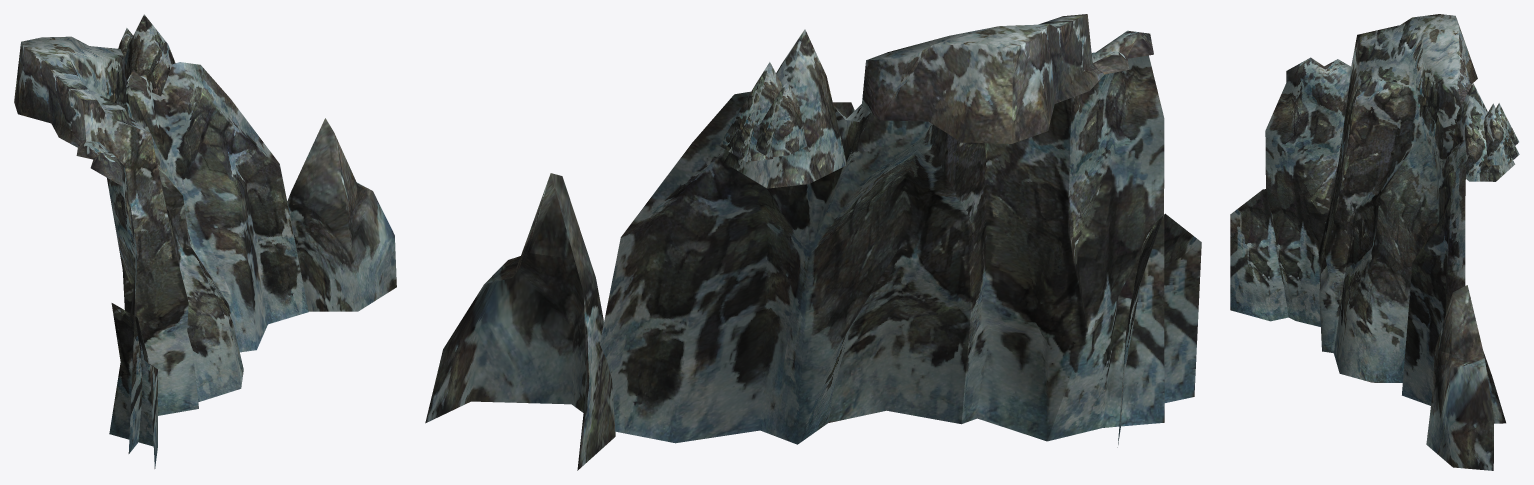
The model's file is bls_st_shanti001_ywk.FBX.
The picture shows the model from 3 angles, left to right: view 1: azimuth 30°, elevation 25°; view 2: azimuth 150°, elevation 25°; view 3: azimuth 270°, elevation 25°; orthographic projection. The views are drawn at different scales.
Visible parts, largest first — view 1: bls_st_shanti001_ywk; view 2: bls_st_shanti001_ywk; view 3: bls_st_shanti001_ywk.
Boxes of the visible parts, x1,y1,x2,y2 form: bls_st_shanti001_ywk: [14, 14, 396, 468]; bls_st_shanti001_ywk: [425, 14, 1201, 470]; bls_st_shanti001_ywk: [1230, 14, 1519, 470].
Size of the model in its own units: 2642 by 2139 by 1917.
